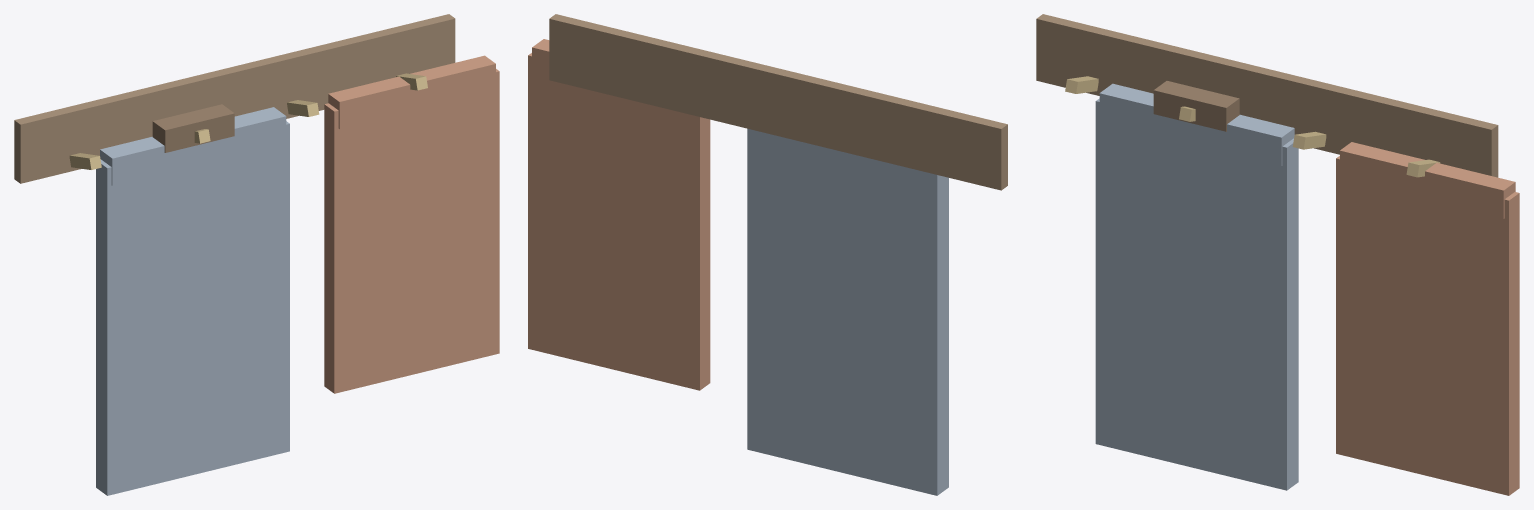
File: coat-hooks.gltf
The picture shows the model from 3 angles, left to right: view 1: azimuth 30°, elevation 25°; view 2: azimuth 150°, elevation 25°; view 3: azimuth 330°, elevation 25°; orthographic projection. The views are drawn at different scales.
Parts seen in each view (by area): view 1: coat_a_body, coat_b_body, board, coat_b_shoulder, coat_a_shoulder, coat_a_collar; view 2: coat_a_body, coat_b_body, board, coat_b_shoulder; view 3: coat_a_body, coat_b_body, board, coat_b_shoulder, coat_a_shoulder, coat_a_collar.
Boxes of the visible parts, x1,y1,x2,y2 form: coat_a_body: (96,121,289,495); coat_b_body: (324,69,499,393); board: (14,14,455,183); coat_b_shoulder: (328,55,495,129); coat_a_shoulder: (100,107,286,185); coat_a_collar: (152,104,234,152); coat_a_body: (747,128,948,495); coat_b_body: (528,53,710,390); board: (549,14,1007,190); coat_b_shoulder: (532,39,549,79); coat_a_body: (1095,98,1298,490); coat_b_body: (1336,156,1519,495); board: (1036,14,1498,177); coat_b_shoulder: (1340,142,1515,218); coat_a_shoulder: (1099,83,1294,165); coat_a_collar: (1153,81,1239,131).
Size of the model in its own units: 0.0669 by 0.0519 by 0.00698.
